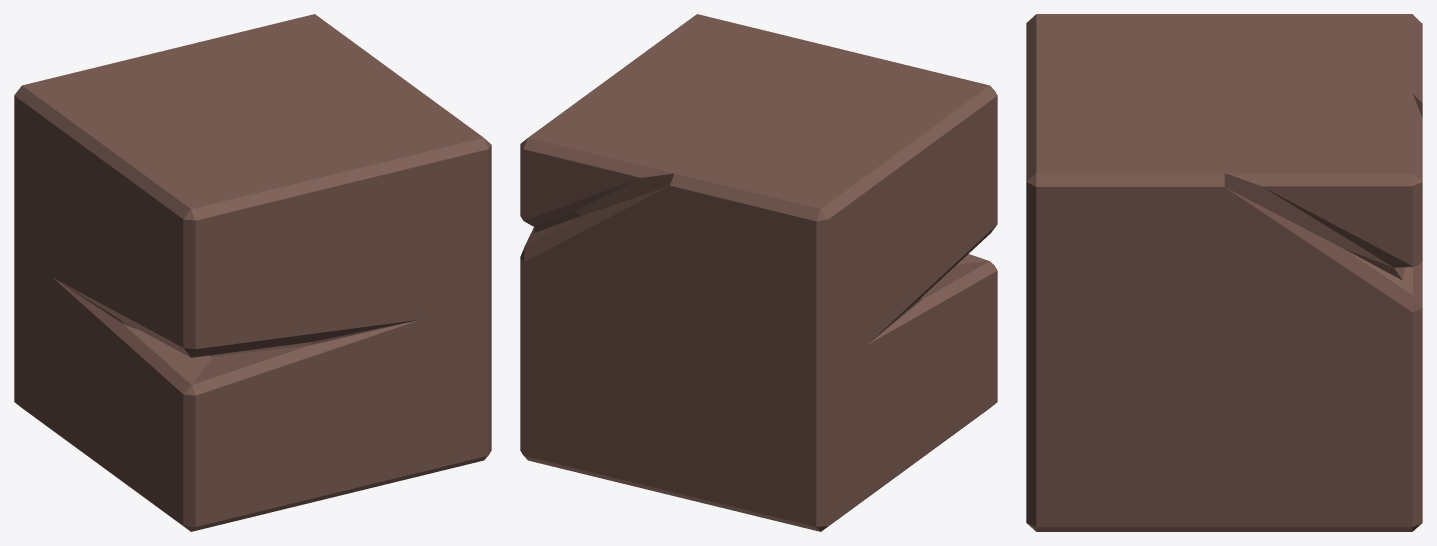
File: ironcube2.fbx
3 views of the same model, side by side, from view 1: azimuth 30°, elevation 25°; view 2: azimuth 150°, elevation 25°; view 3: azimuth 270°, elevation 25° (orthographic). The views are drawn at different scales.
Visible parts, largest first — view 1: ironcube2; view 2: ironcube2; view 3: ironcube2.
Part boxes in pixels (left/top/right/bottom): ironcube2: left=14, top=14, right=491, bottom=531; ironcube2: left=520, top=14, right=997, bottom=531; ironcube2: left=1026, top=14, right=1422, bottom=531.
Size of the model in its own units: 0.9342 by 0.9342 by 0.9342.
